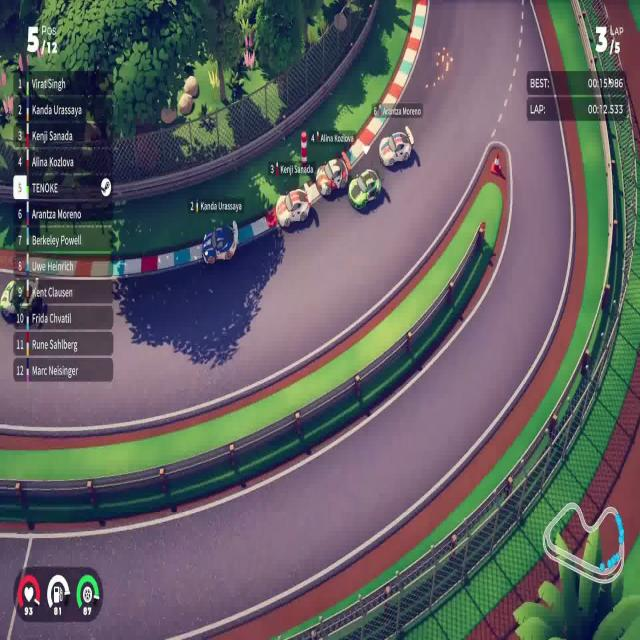car: (201, 219, 238, 266), (378, 124, 415, 168), (347, 167, 382, 212), (274, 186, 310, 228), (315, 156, 349, 197)
